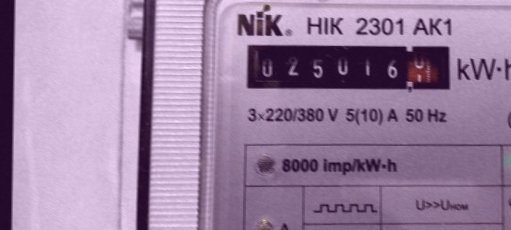0: (336, 53, 350, 76), (260, 56, 273, 78), (412, 49, 424, 69)
1: (361, 52, 372, 78), (414, 72, 422, 83)
2: (286, 53, 299, 77)
5: (311, 57, 322, 78)
6: (385, 56, 398, 81)
screen: (236, 34, 459, 98)
